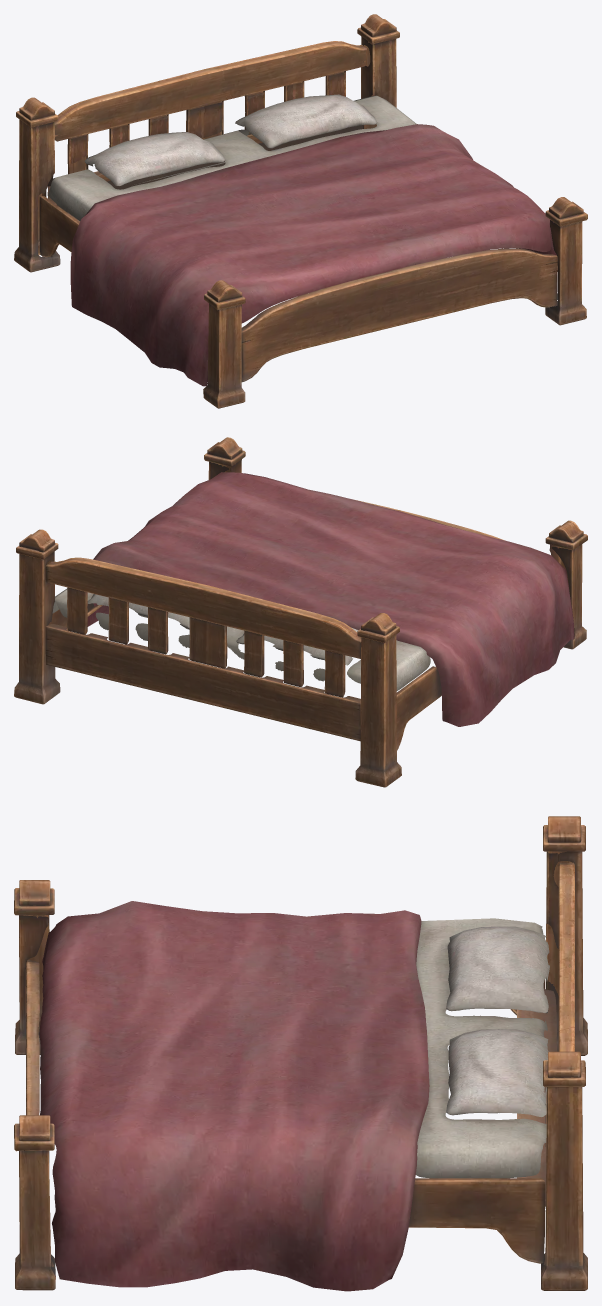
3 renders of one model, top to bottom at view 1: azimuth 30°, elevation 25°; view 2: azimuth 150°, elevation 25°; view 3: azimuth 270°, elevation 25°, orthographic. The views are drawn at different scales.
Parts seen in each view (by area): view 1: SM_Bed_02v1_LOD0; view 2: SM_Bed_02v1_LOD0; view 3: SM_Bed_02v1_LOD0.
Boxes of the visible parts, x1,y1,x2,y2 form: SM_Bed_02v1_LOD0: (14, 14, 587, 408); SM_Bed_02v1_LOD0: (14, 437, 587, 787); SM_Bed_02v1_LOD0: (14, 816, 587, 1291).
Bounding box in the file's own units: 2.49 × 0.9411 × 2.14.
Materials: 1 (1 with a texture image).
